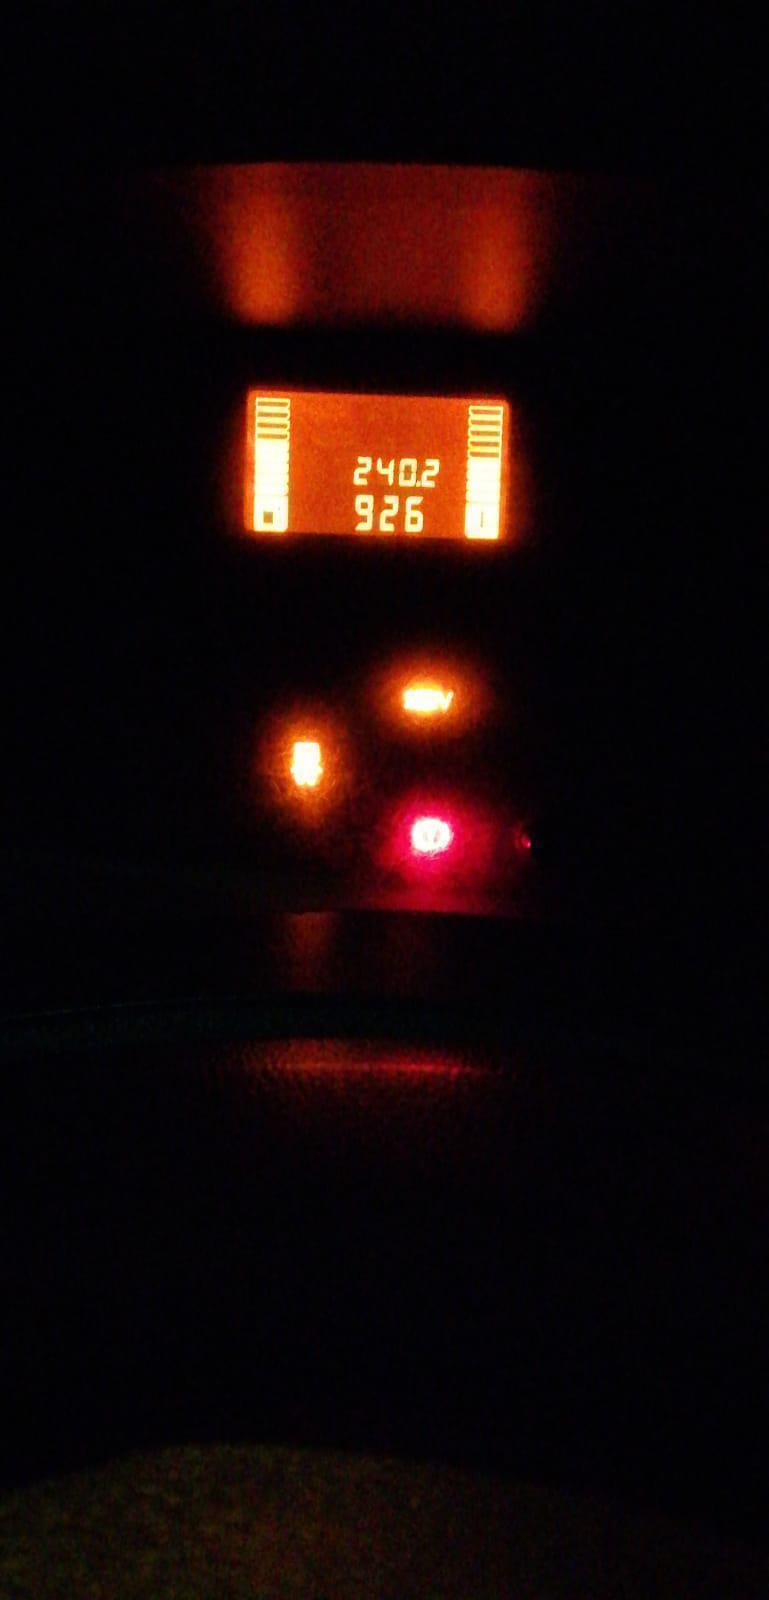,: (415, 480, 421, 488)
0: (397, 457, 417, 487)
2: (378, 494, 399, 532), (352, 456, 372, 486), (420, 458, 440, 488)
4: (375, 456, 394, 487)
6: (403, 495, 424, 533)
9: (353, 494, 374, 531)
odometer: (238, 386, 513, 544)
